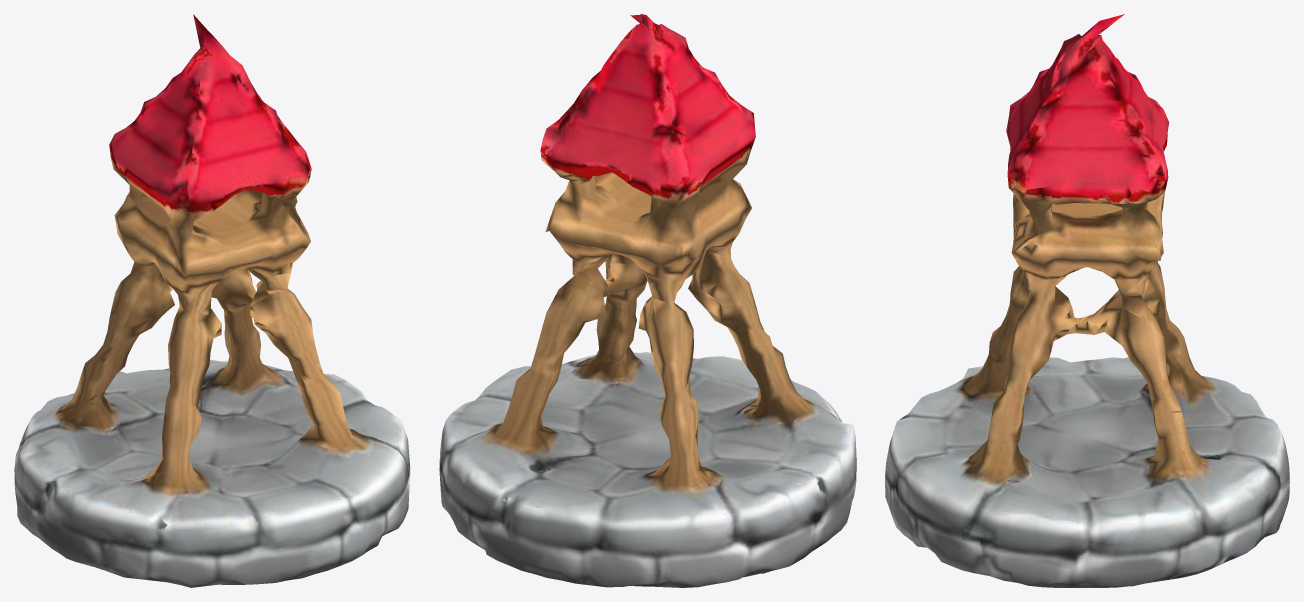
Rendered from archer.glb.
3 renders of one model, left to right at view 1: azimuth 30°, elevation 25°; view 2: azimuth 150°, elevation 25°; view 3: azimuth 270°, elevation 25°, orthographic. The views are drawn at different scales.
Size of the model in its own units: 0.6855 by 0.9326 by 0.6861.
Materials: 1 (1 with a texture image).
